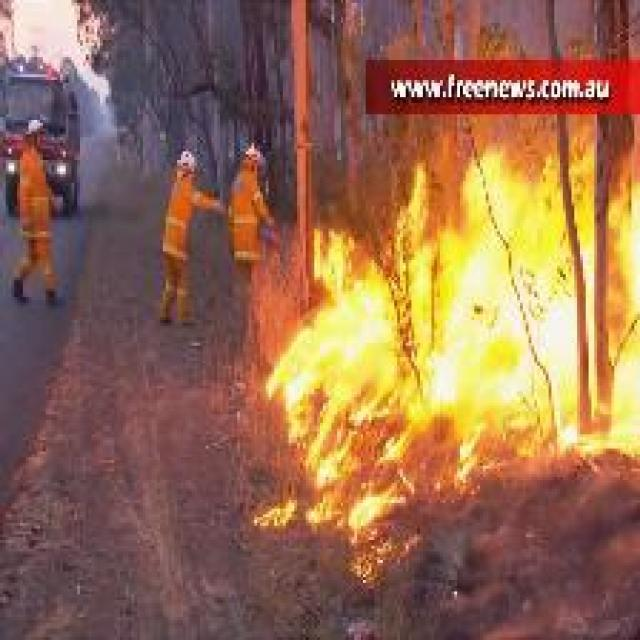Fire: (265, 133, 640, 533)
